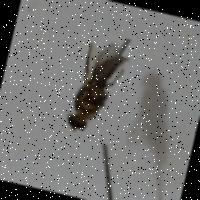Oriental-fruit-fly: (53, 26, 146, 147)
